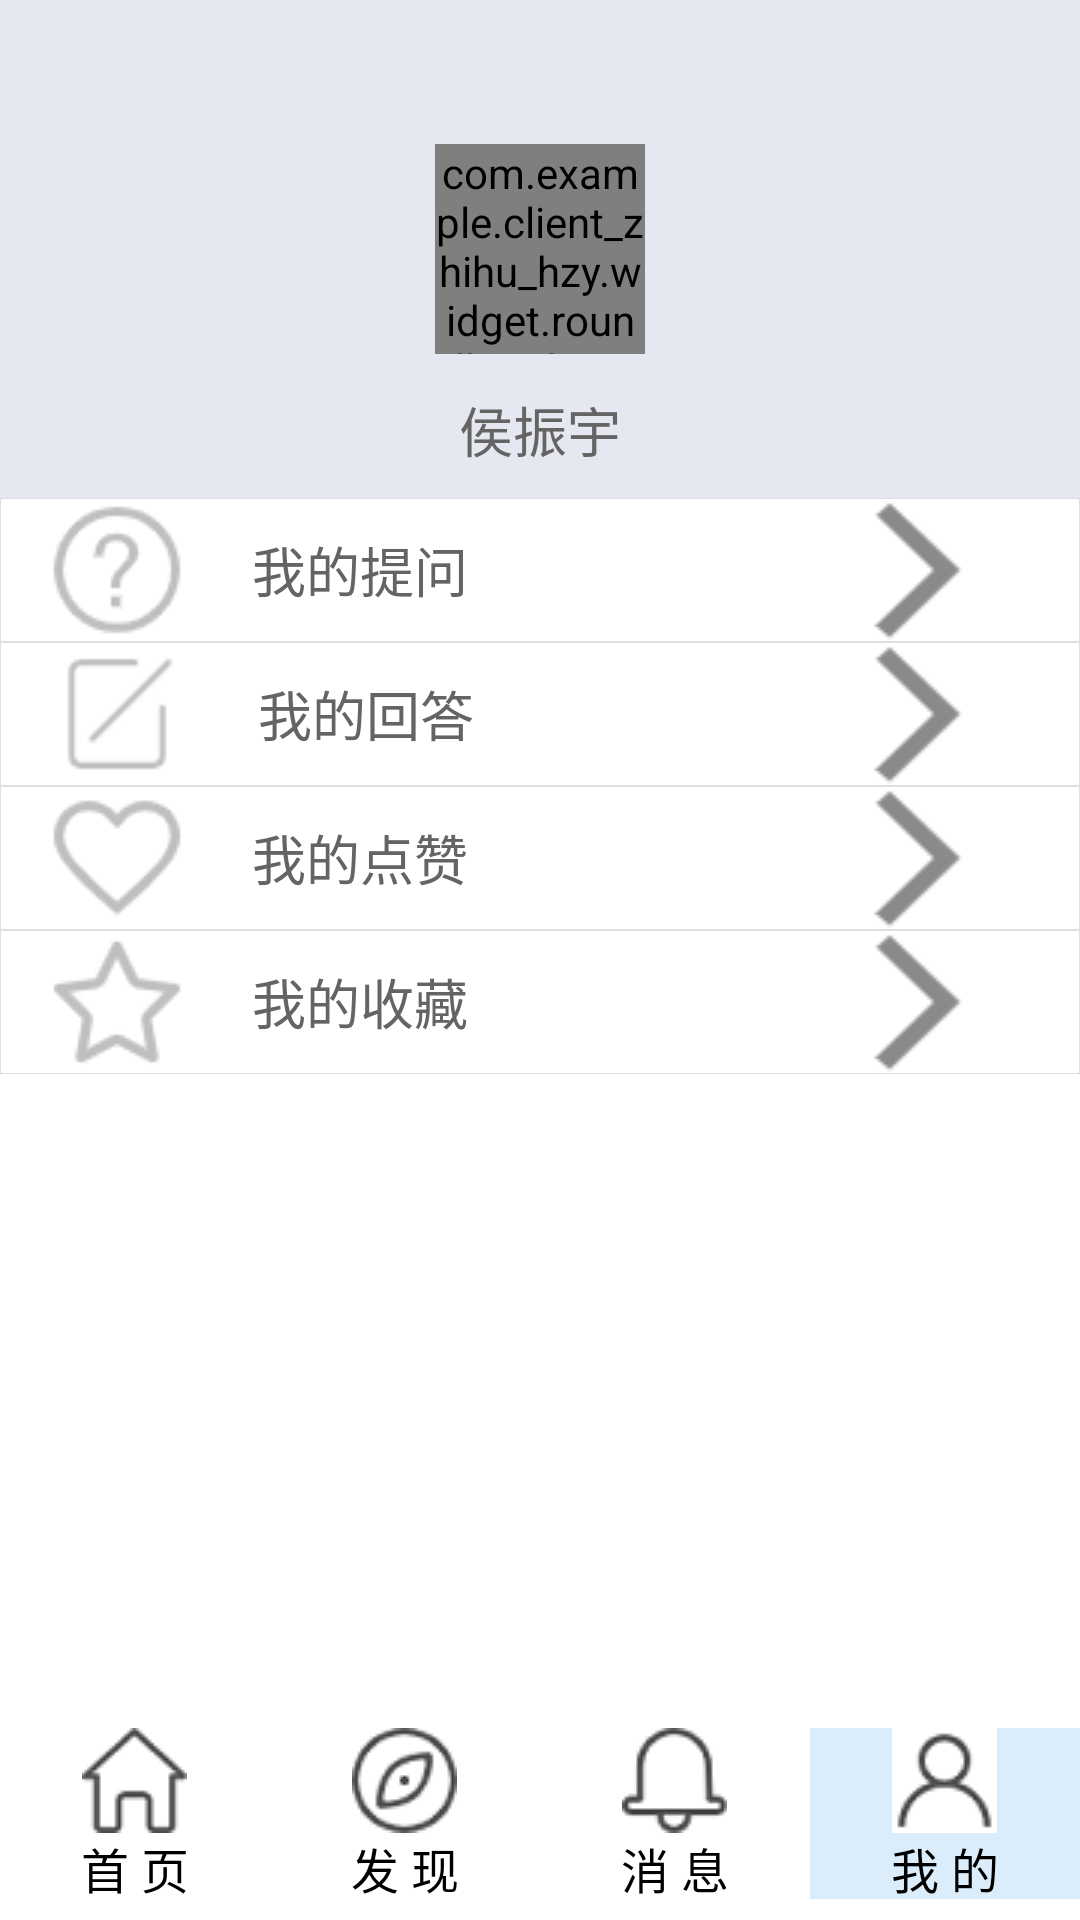

Point at icon controls on the screen. Image size 1080 x 1920, points as (x,y).
dada: (120,714)
tiwen: (117,570)
you: (917,570), (917,714), (917,858), (917,1002)
